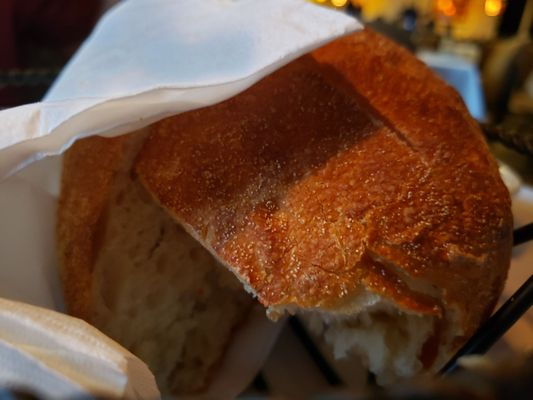salad: (134, 24, 517, 387)
